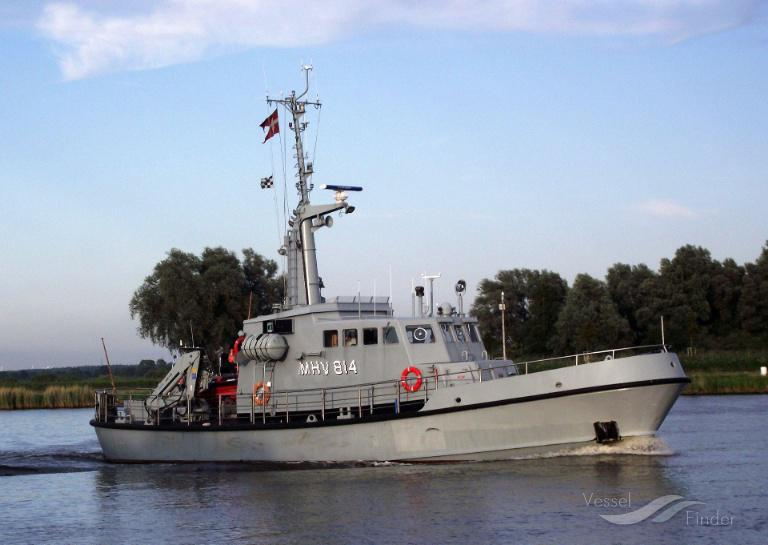OCR: (296, 354, 360, 382)
